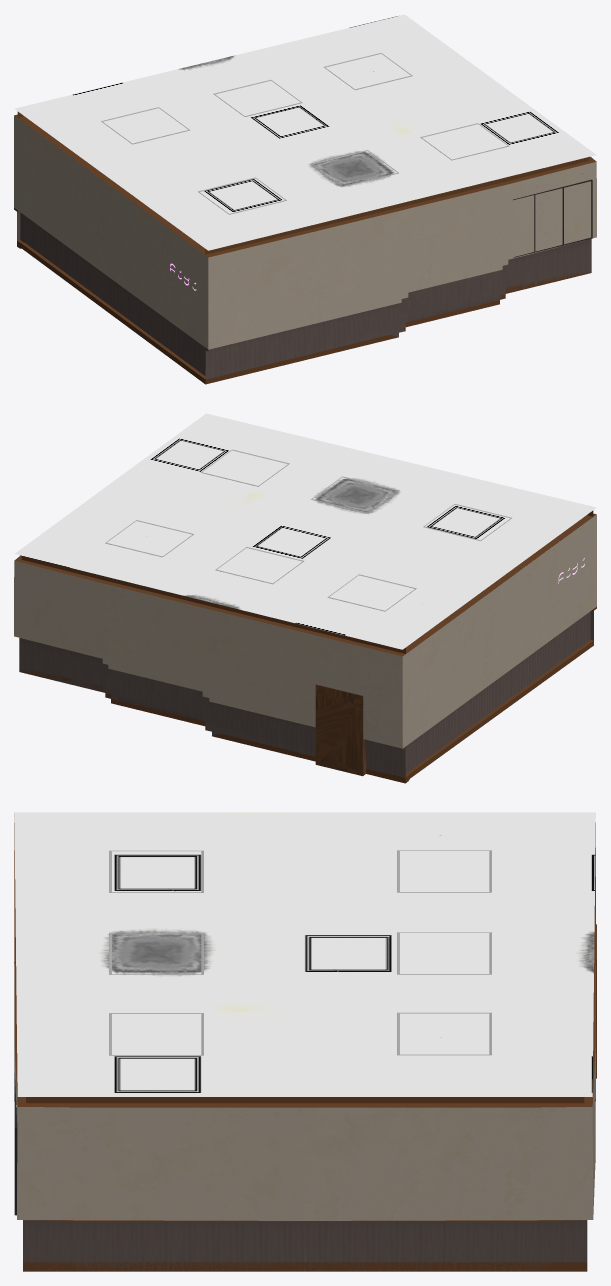
The model's file is classroom 1.fbx.
3 views of the same model, one above another, from view 1: azimuth 30°, elevation 25°; view 2: azimuth 150°, elevation 25°; view 3: azimuth 270°, elevation 25° (orthographic). The views are drawn at different scales.
Visible parts, largest first — view 1: Floor.007, Floor.011, Floor.008, Floor.006, Floor.002, Plane.011; view 2: Floor.007, Floor.011, Floor.008, Floor.006, Door, Floor.002; view 3: Floor.007, Floor.011, Floor.008, Floor.006, Floor.002, Plane.015.
Part boxes in pixels (x1,y1,x2,y2): Floor.007: (14, 14, 596, 250); Floor.011: (14, 115, 596, 349); Floor.008: (17, 212, 591, 379); Floor.006: (14, 111, 596, 257); Floor.002: (17, 240, 591, 384); Plane.011: (513, 179, 592, 257); Floor.007: (14, 413, 596, 649); Floor.011: (14, 514, 596, 748); Floor.008: (19, 611, 593, 777); Floor.006: (14, 510, 596, 656); Door: (315, 684, 366, 776); Floor.002: (19, 640, 593, 783); Floor.007: (14, 812, 595, 1096); Floor.011: (14, 966, 595, 1220); Floor.008: (23, 1220, 587, 1271); Floor.006: (14, 822, 595, 1107); Floor.002: (23, 1262, 587, 1271); Plane.015: (397, 1012, 491, 1055).
Size of the model in its own units: 1235 by 411 by 1065.
